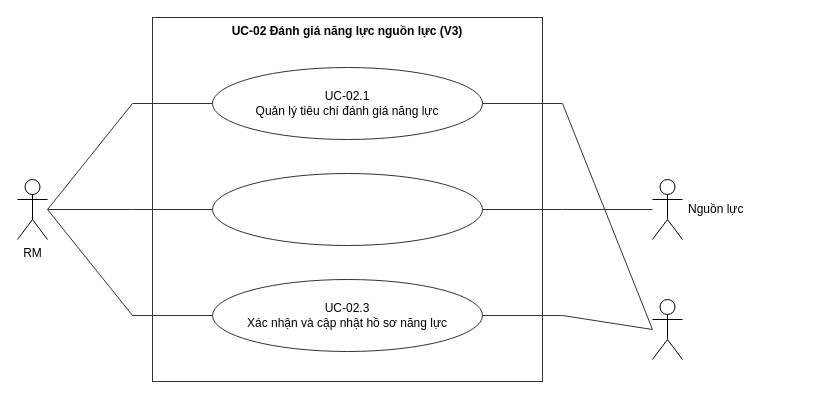
Some shapes in this 834 by 399 pixel diagram are drawn without their labels. The centre of each missing label's shape, as x and y in pixels:
"PMO/Quản lý danh mục" belongs at [667,329].
"UC-02.2 Đánh giá năng lực nguồn lực" belongs at [347,209].
